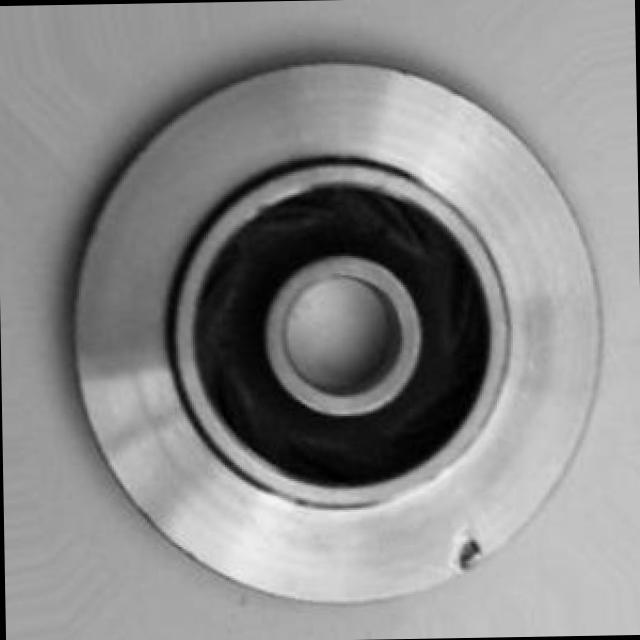Defect: (448, 527, 491, 574)
